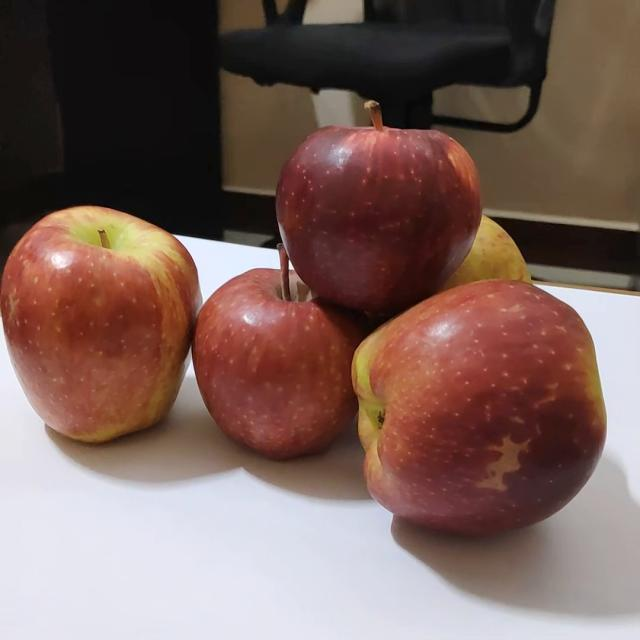apple: (343, 274, 611, 538), (0, 198, 202, 447), (266, 91, 487, 312), (192, 240, 373, 462), (393, 199, 534, 297)
